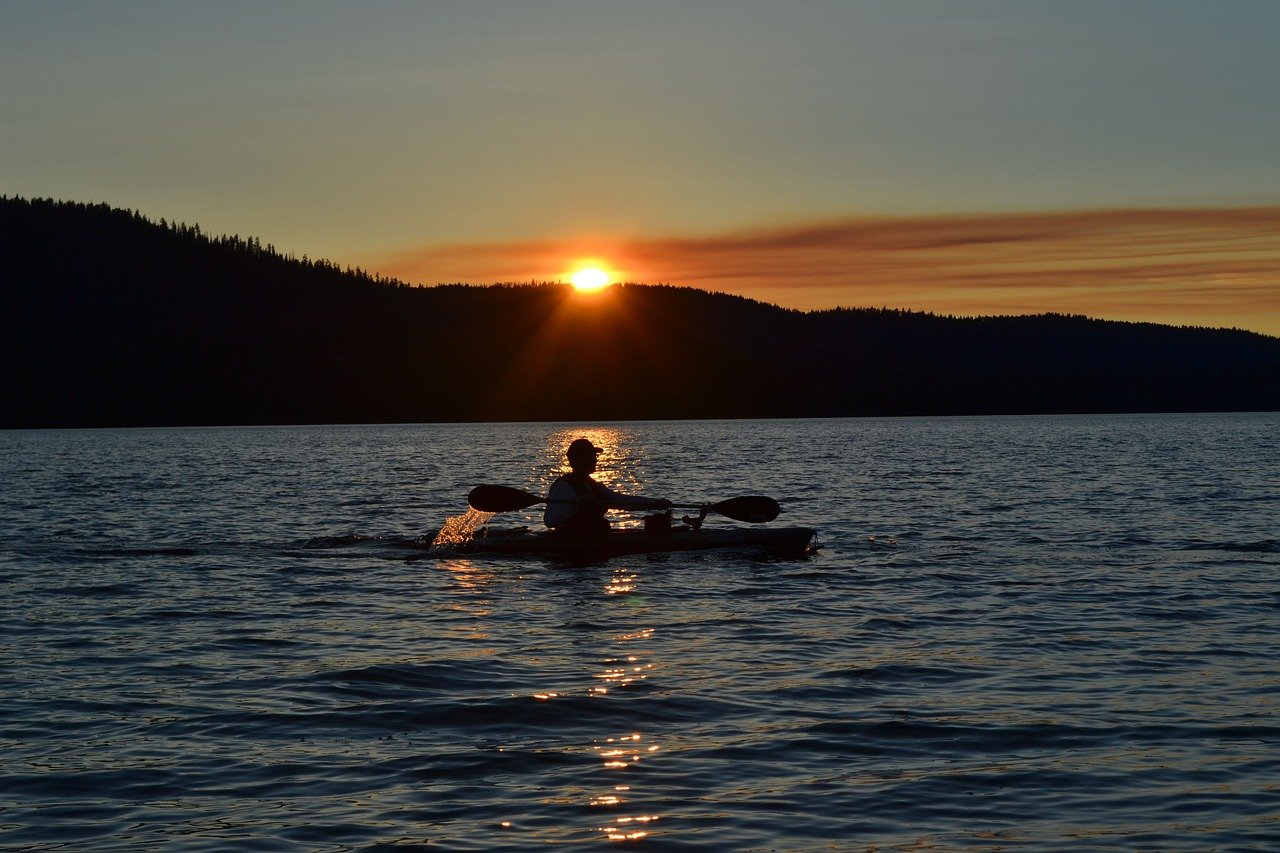kayak: (405, 524, 817, 561)
